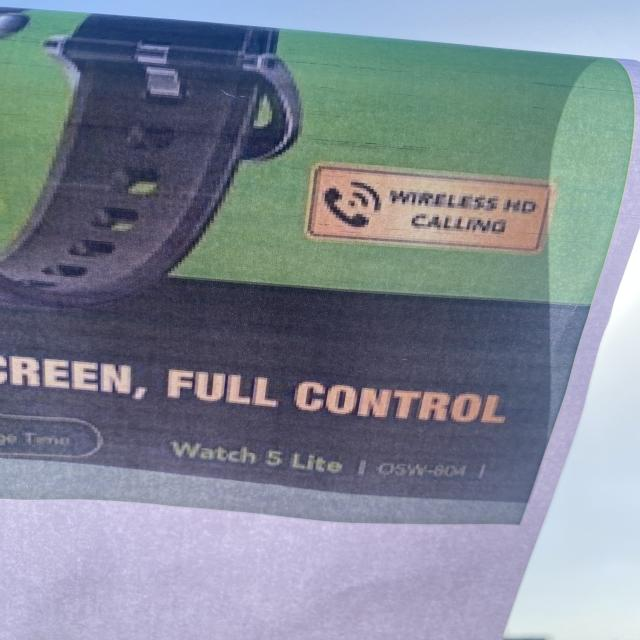Watch 5 Lite OSW-804: (162, 433, 499, 483)
